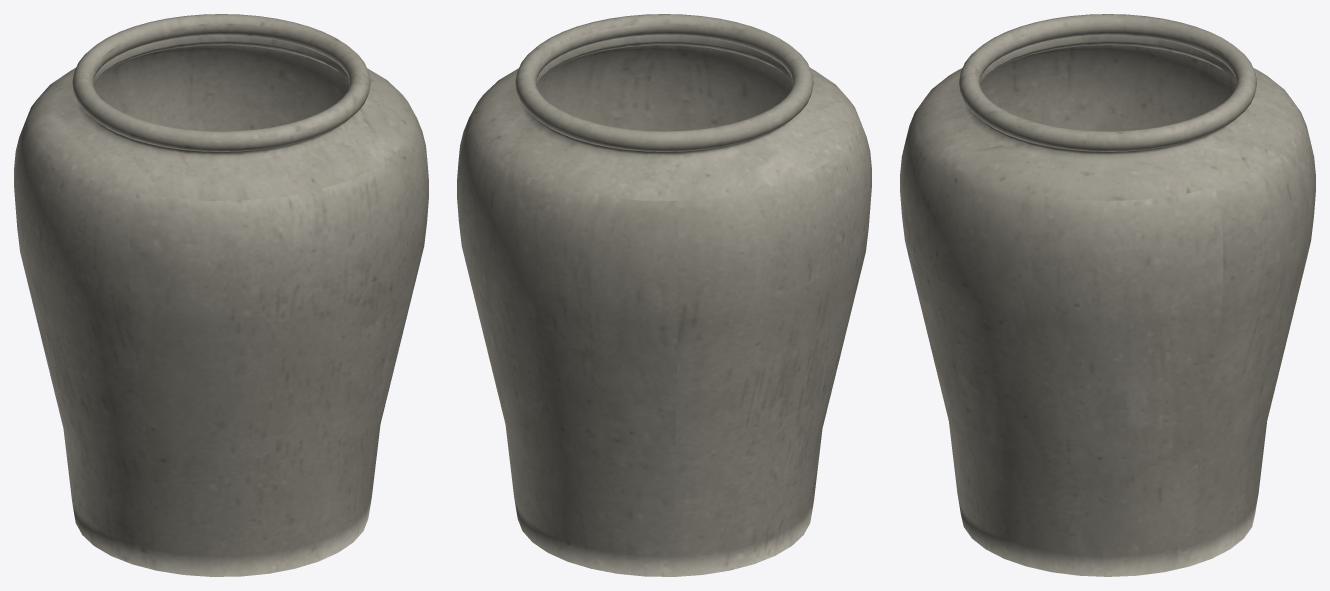
File: Vase2.glb
3 renders of one model, left to right at view 1: azimuth 30°, elevation 25°; view 2: azimuth 150°, elevation 25°; view 3: azimuth 270°, elevation 25°, orthographic.
Visible parts, largest first — view 1: Vase2; view 2: Vase2; view 3: Vase2.
Boxes of the visible parts, x1=… form: Vase2: x1=14, y1=14, x2=428, y2=576; Vase2: x1=457, y1=14, x2=871, y2=576; Vase2: x1=900, y1=14, x2=1315, y2=576.
Size of what is drawn, in the model's own units: 0.8335 by 0.9762 by 0.8335.
1 material, 1 textured.
